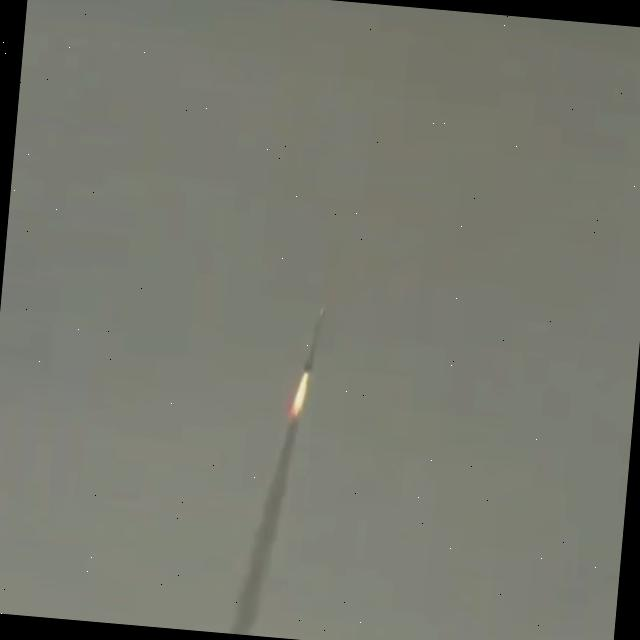smoke_trail_with_rocket: (228, 309, 324, 635)
